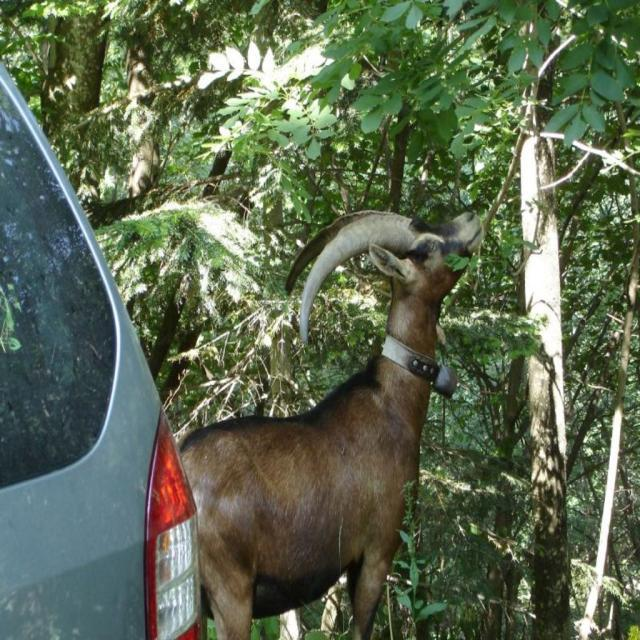Goat: (176, 208, 485, 639)
